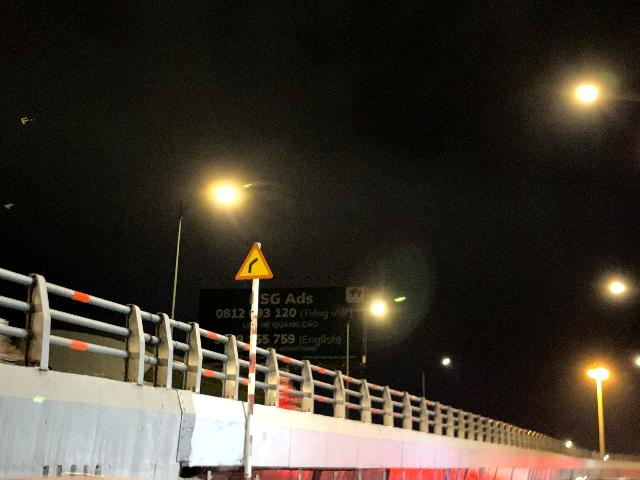cho-ngoat-nguy-hiem-ben-phai: (235, 242, 274, 280)
